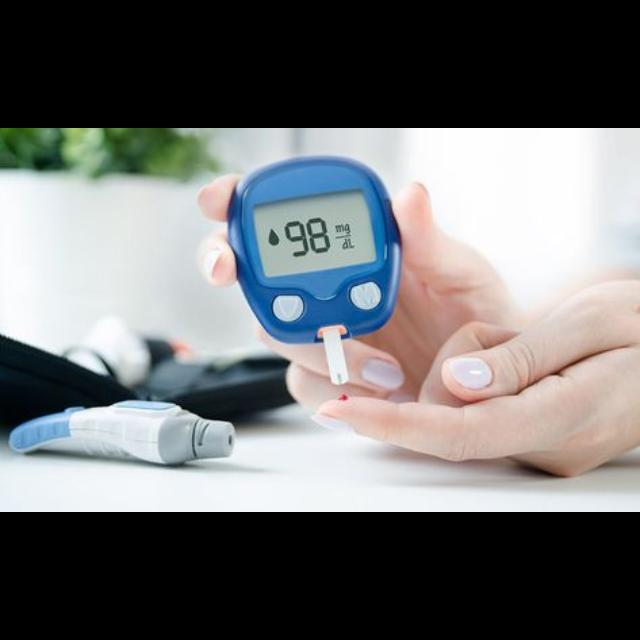Glucose-Meter: (229, 157, 401, 385)
